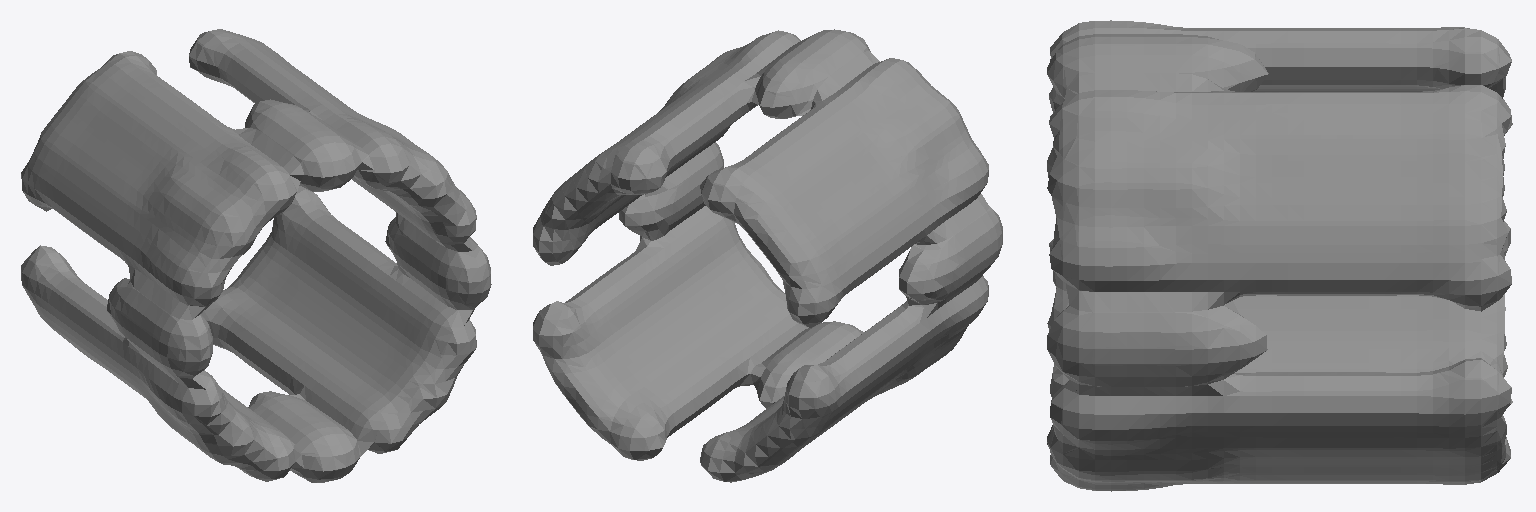
robot.urdf — cube.urdf:
<?xml version="0.0" ?> 
<robot name="cube.urdf"> 
<link name="legobrick"> 
<contact> 
<lateral_friction value="5.0"/> 
<rolling_friction value="0.0"/> 
<contact_cfm value="0.0"/> 
<contact_erp value="1.0"/> 
</contact> 
<inertial> 
<origin rpy="0 0 0" xyz="0.0 0.0 0.0"/> 
<mass value=".01"/> 
<inertia ixx="1" ixy="0" ixz="0" iyy="1" iyz="0" izz="1"/> 
</inertial> 
<visual> 
<origin rpy="1.570796 0 0" xyz="-0.02598628852085078 0.02787218760945543 -0.026010643281355387"/> 
<geometry> 
<mesh filename="I13_1.obj" scale="0.0006845327861766614 0.0006845327861766614 0.0006845327861766614"/> 
</geometry> 
<material name="yellow"> 
<color rgba="0.6 0.6 0.6 1"/> 
</material> 
</visual> 
<collision> 
<origin rpy="1.570796 0 0" xyz="-0.02598628852085078 0.02787218760945543 -0.026010643281355387"/> 
<geometry> 
<mesh filename="I13_1.obj" scale="0.0006845327861766614 0.0006845327861766614 0.0006845327861766614"/> 
</geometry> 
</collision> 
</link> 
</robot>

--- Facts derived from the render (not from the file) ---
Views: 3 orthographic renders of the robot side by side, from view 1: azimuth 30°, elevation 25°; view 2: azimuth 150°, elevation 25°; view 3: azimuth 270°, elevation 25°.
Robot: cube.urdf — 1 links, 0 joints (none); root link legobrick; default pose: all joints at 0.
Visible links, largest first — view 1: legobrick; view 2: legobrick; view 3: legobrick.
Link boxes in pixels (x1,y1,x2,y2): legobrick: (21, 29, 491, 482); legobrick: (533, 29, 1002, 482); legobrick: (1047, 20, 1512, 491).
Bounding box of the posed robot: 0.056 × 0.0548 × 0.056 m (x, y, z).
1 mesh visuals loaded from 1 distinct referenced files (1 OBJ).
